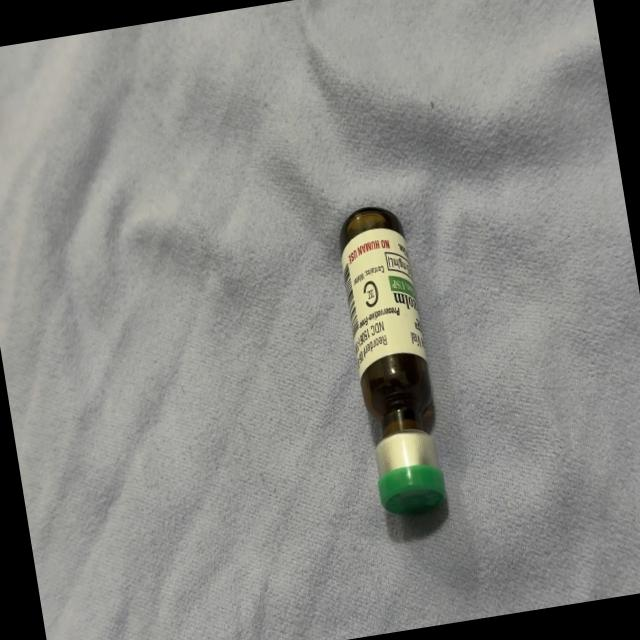midazolm: (336, 206, 450, 515)
